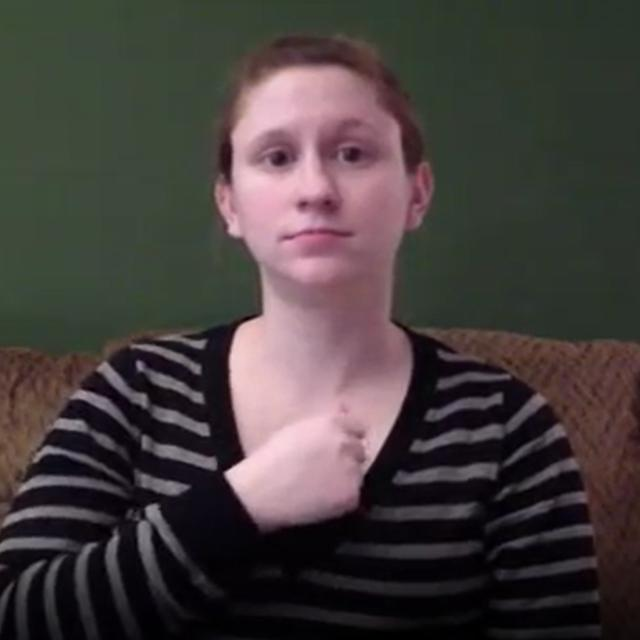sorry: (242, 401, 368, 525)
